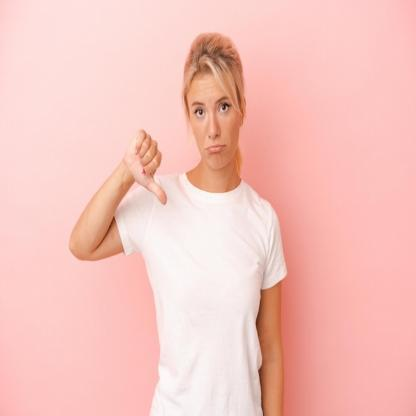thumb_down: (123, 126, 169, 209)
